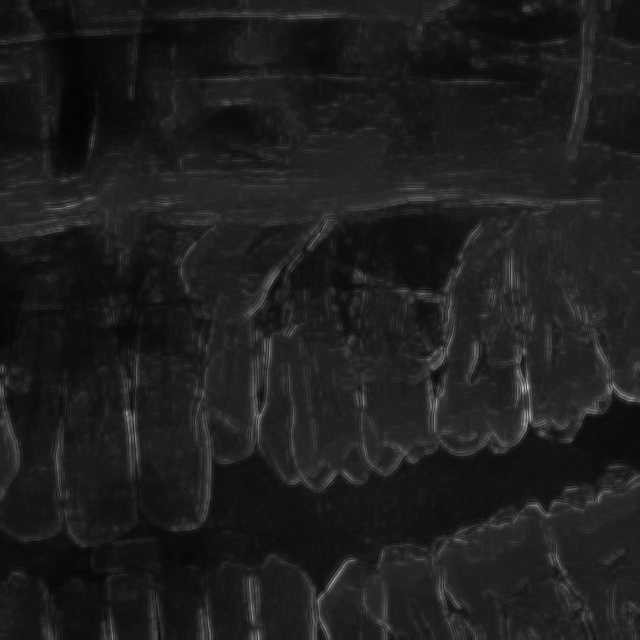cavity: (414, 189, 630, 454)
